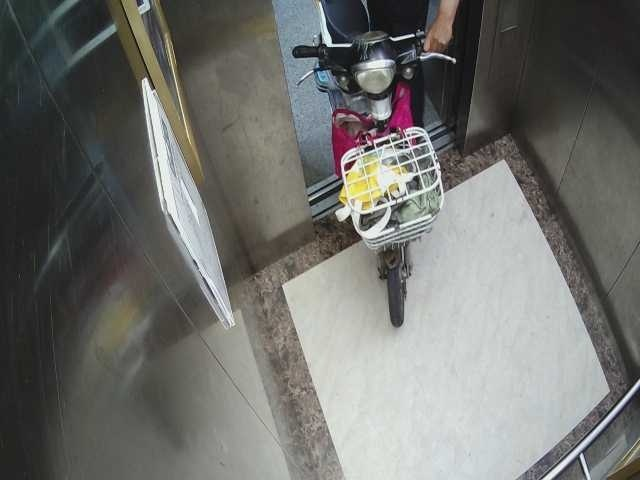emotor: (292, 1, 443, 329)
